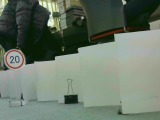speed_20: (2, 48, 26, 71)
